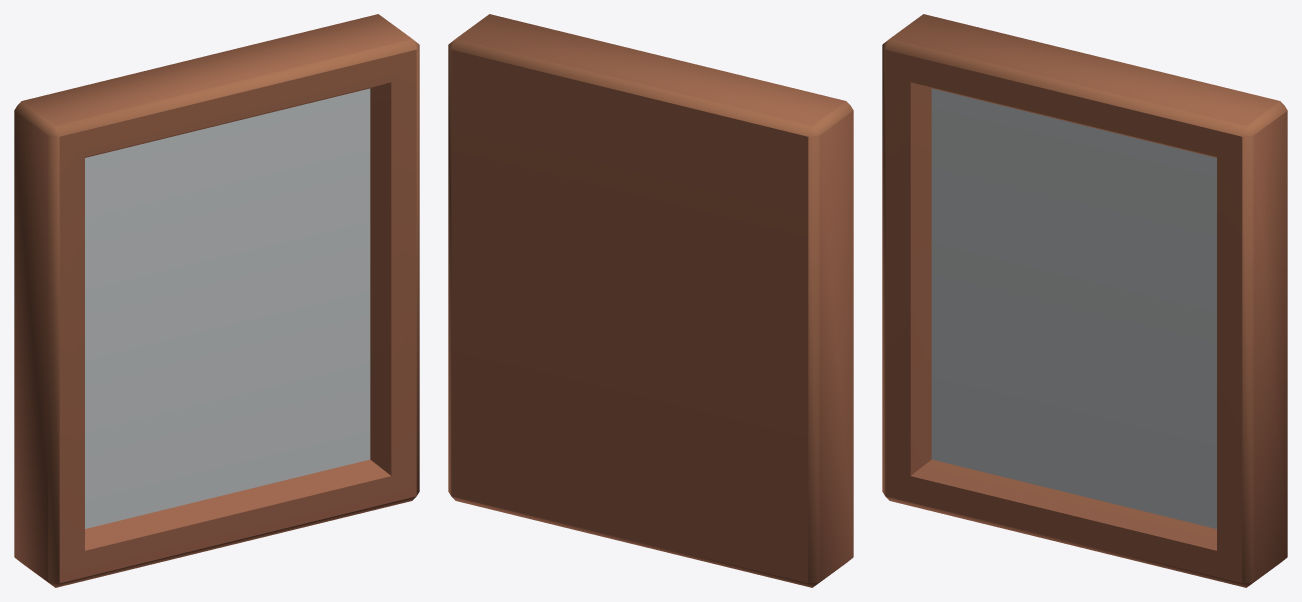
The model's file is K_pictureframe_large_A.glb.
3 views of the same model, side by side, from view 1: azimuth 30°, elevation 25°; view 2: azimuth 150°, elevation 25°; view 3: azimuth 330°, elevation 25° (orthographic).
Visible parts, largest first — view 1: pictureframe_large_A; view 2: pictureframe_large_A; view 3: pictureframe_large_A.
Part boxes in pixels (bbox=[...]): pictureframe_large_A: bbox=[14, 14, 419, 587]; pictureframe_large_A: bbox=[448, 14, 853, 587]; pictureframe_large_A: bbox=[882, 14, 1287, 587].
Bounding box in the file's own units: 1.01 × 1.2 × 0.2.
